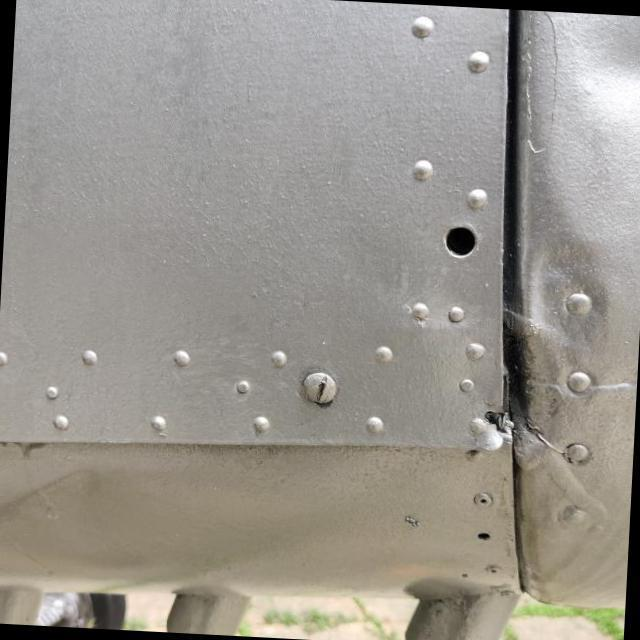Fastener Damage: (401, 190, 504, 289)
